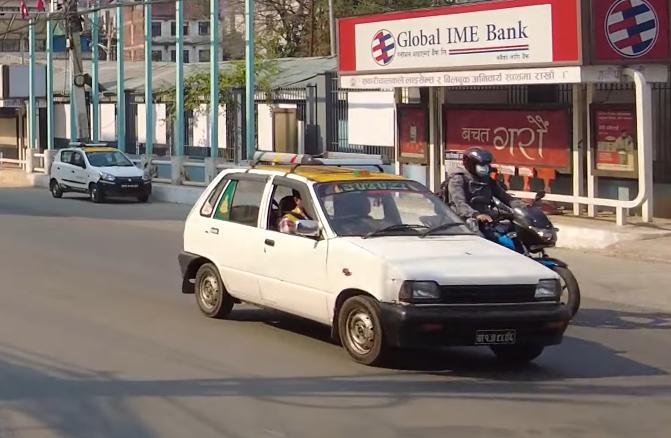bike: (454, 183, 587, 322)
taxi: (176, 141, 581, 373), (41, 137, 160, 207)
